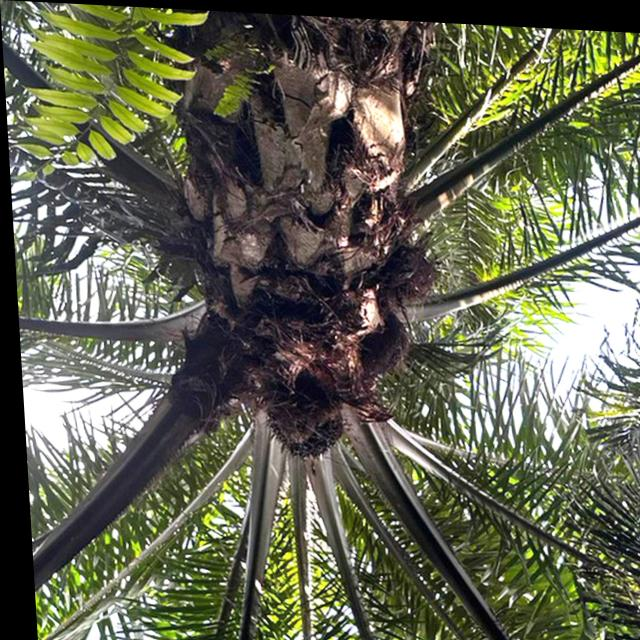unripe: (250, 379, 348, 466)
